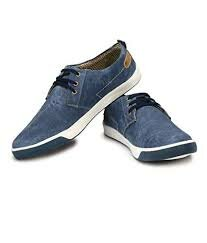Sneakers: (9, 39, 142, 161), (102, 91, 199, 164)
